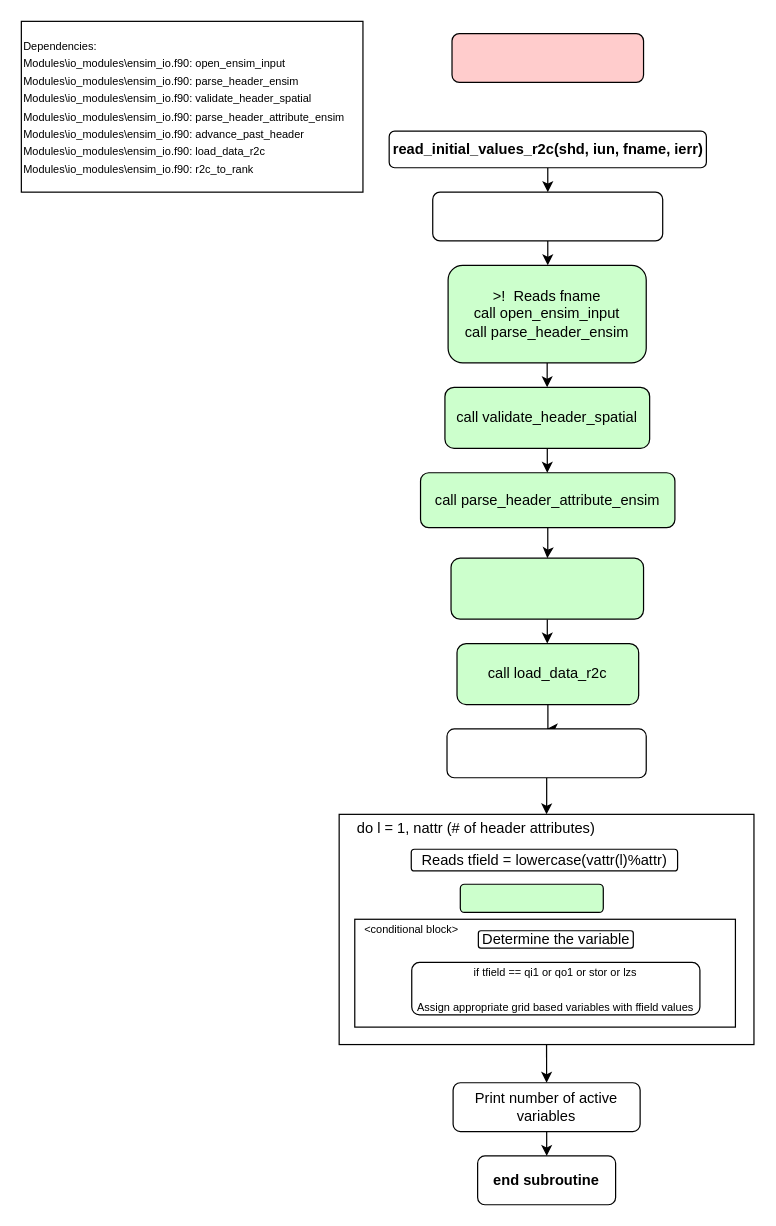
Image size: 776x1226. Some labels were removed from this diagram. The box of each missing label's shape, as (x1, y1, x2, y2) in pixels:
allocate(ffield(shd%NA)): (446, 728, 646, 778)
call advance_past_header: (450, 557, 644, 619)
call r2c_to_rank: (459, 883, 603, 912)
read_initial_values_r2c.f90: (451, 32, 644, 82)
Variables declaration and initialization: (432, 191, 663, 241)
